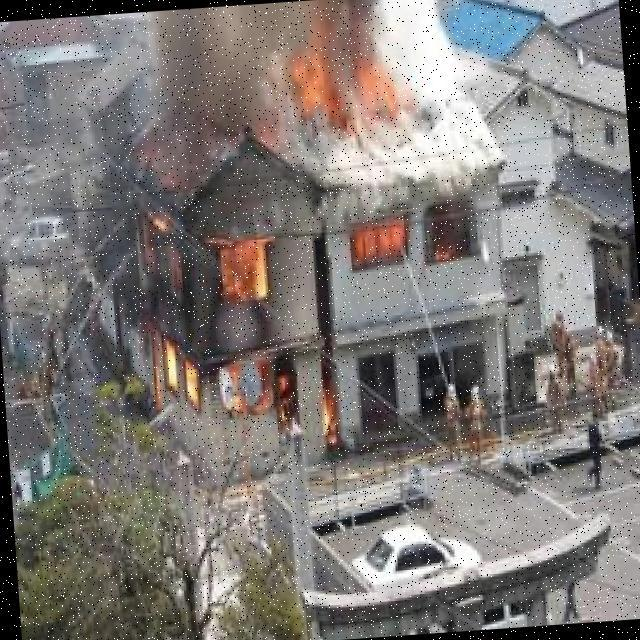Fire: (108, 130, 344, 464), (290, 24, 406, 128), (347, 210, 453, 270)
